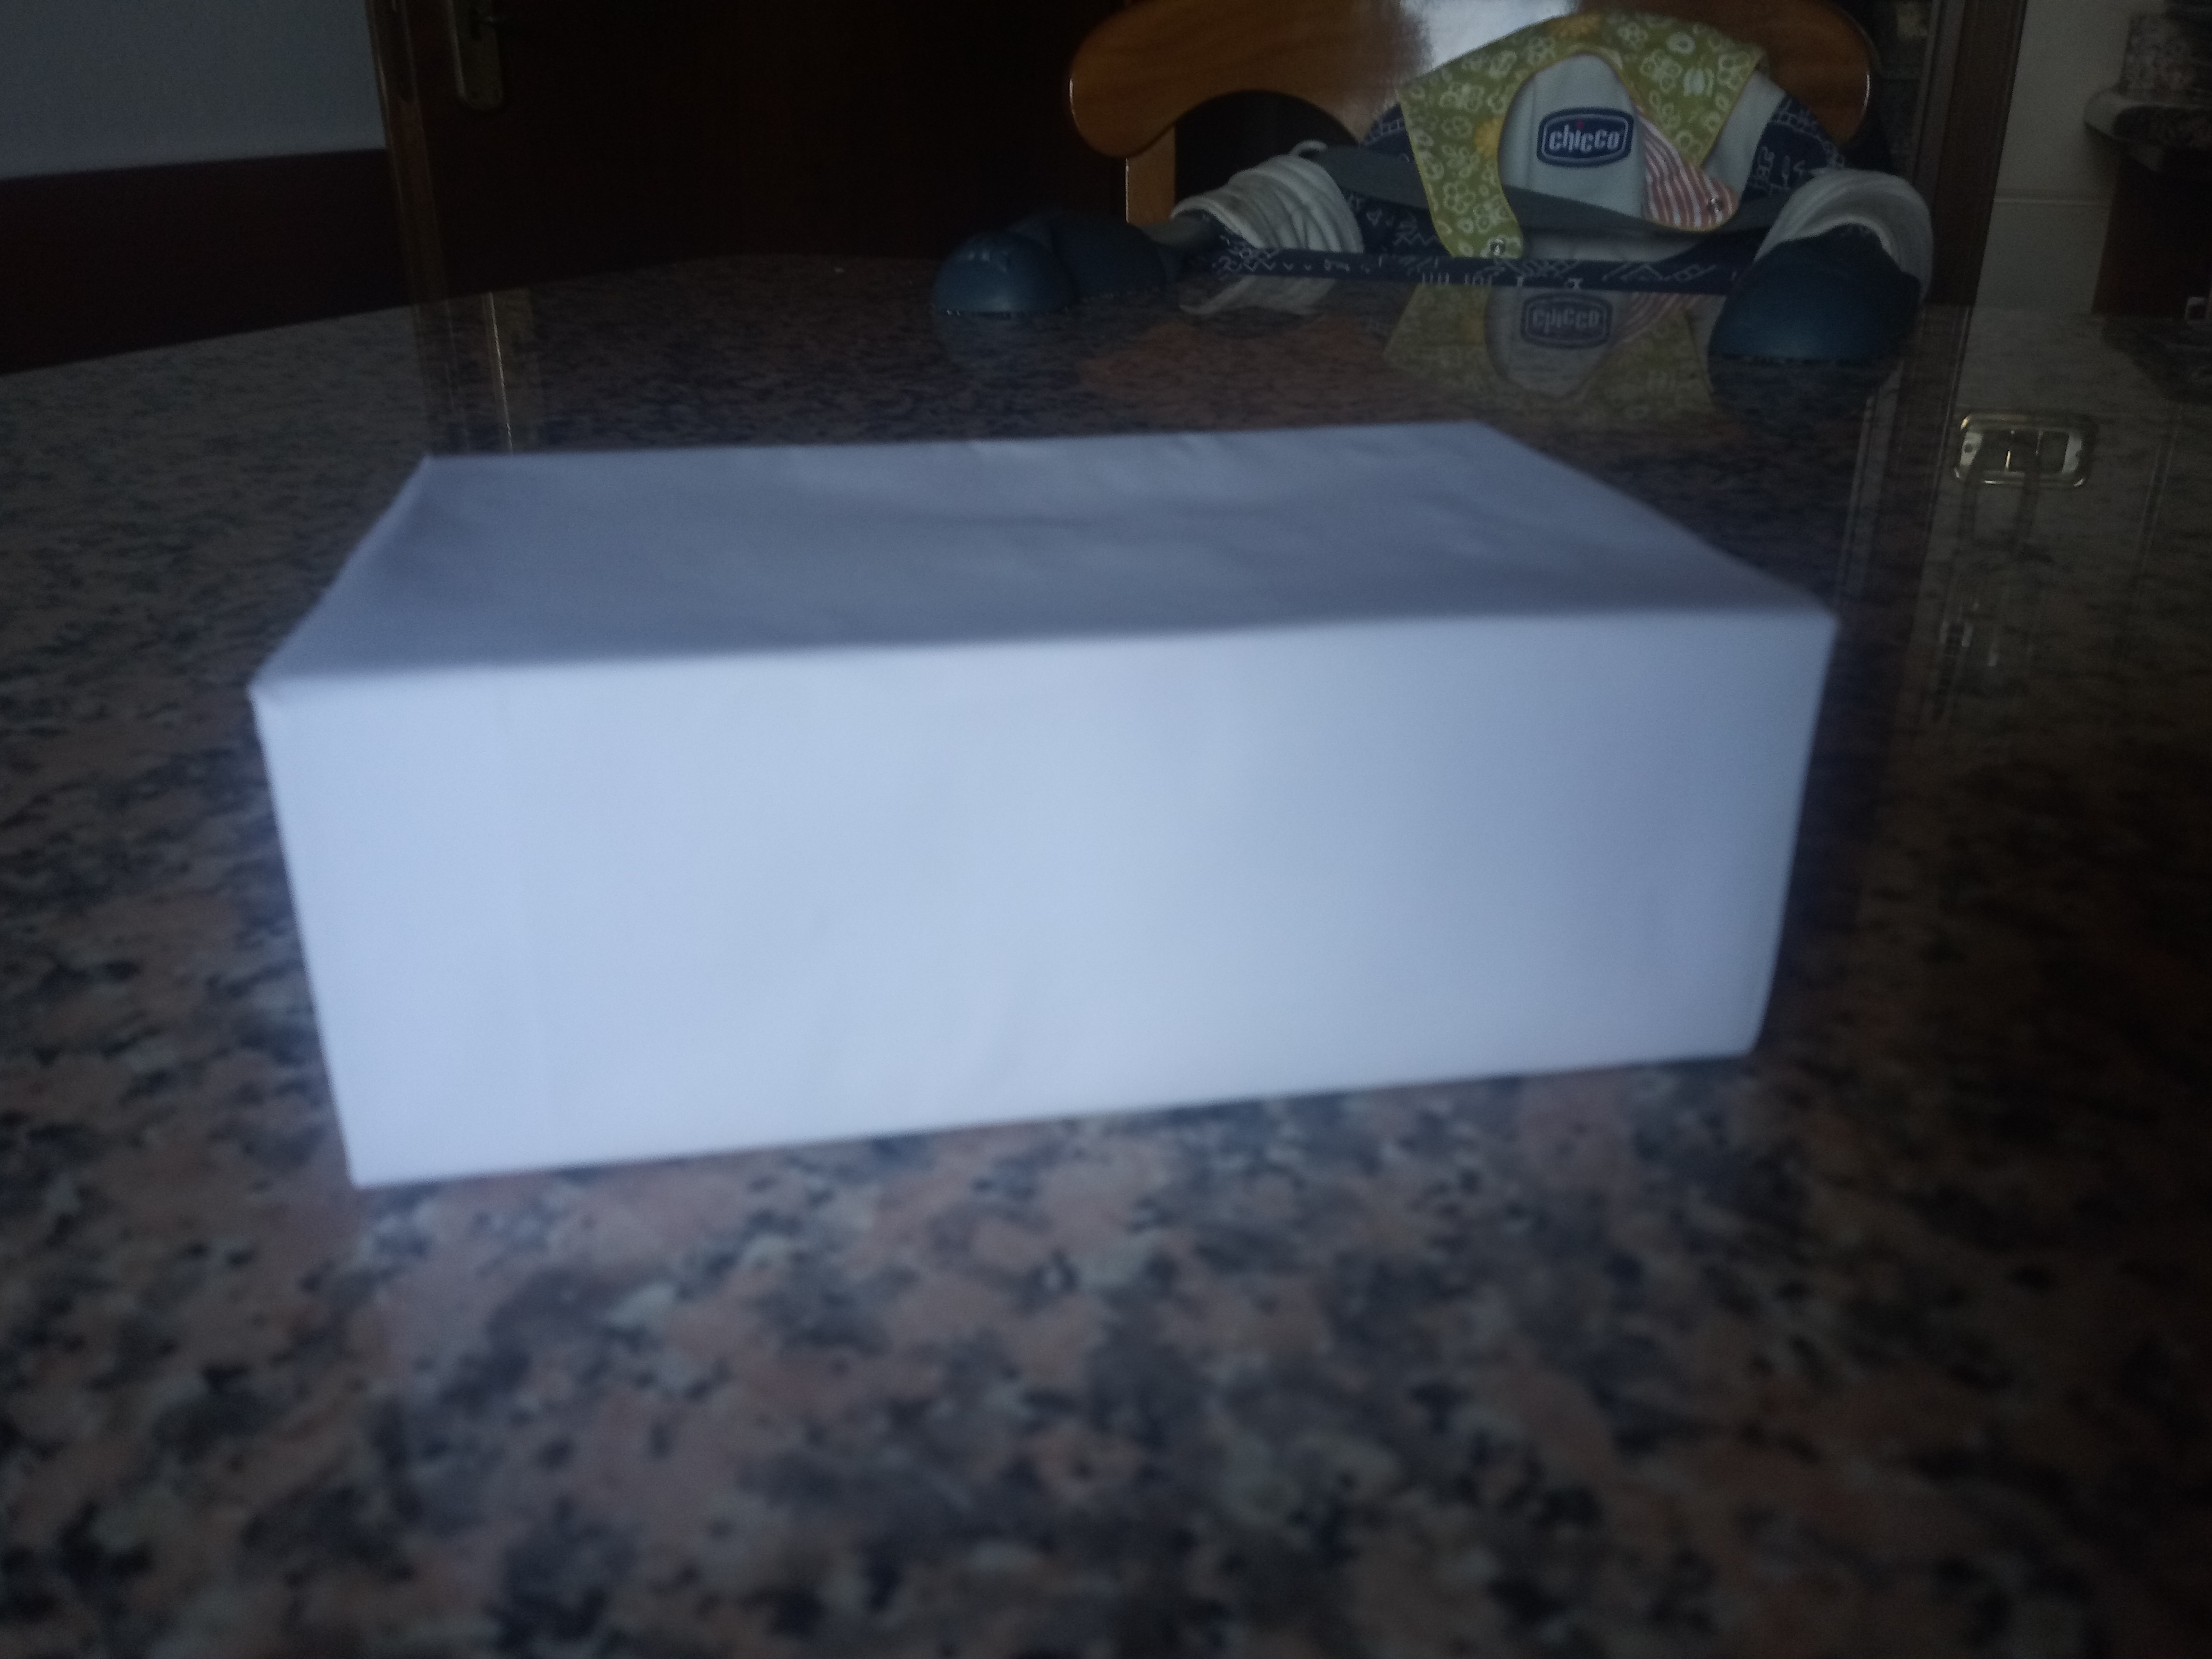white_box: (190, 345, 1897, 1183)
